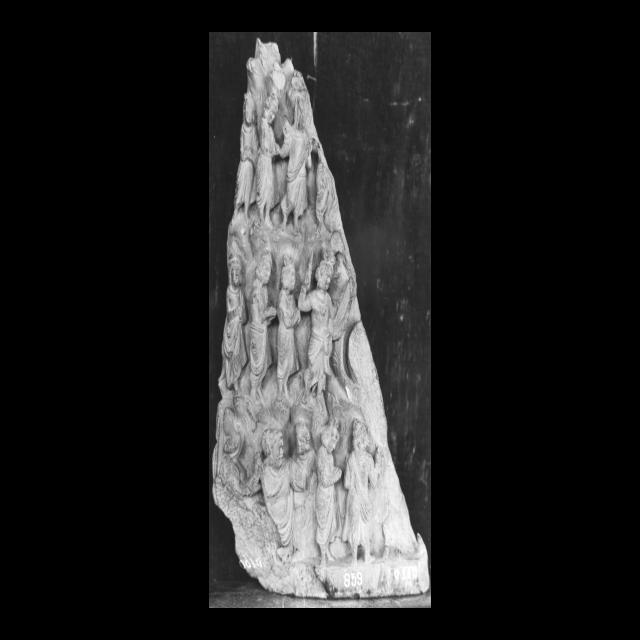buddha-standing: (298, 256, 334, 402), (342, 420, 378, 562), (279, 120, 311, 231)
